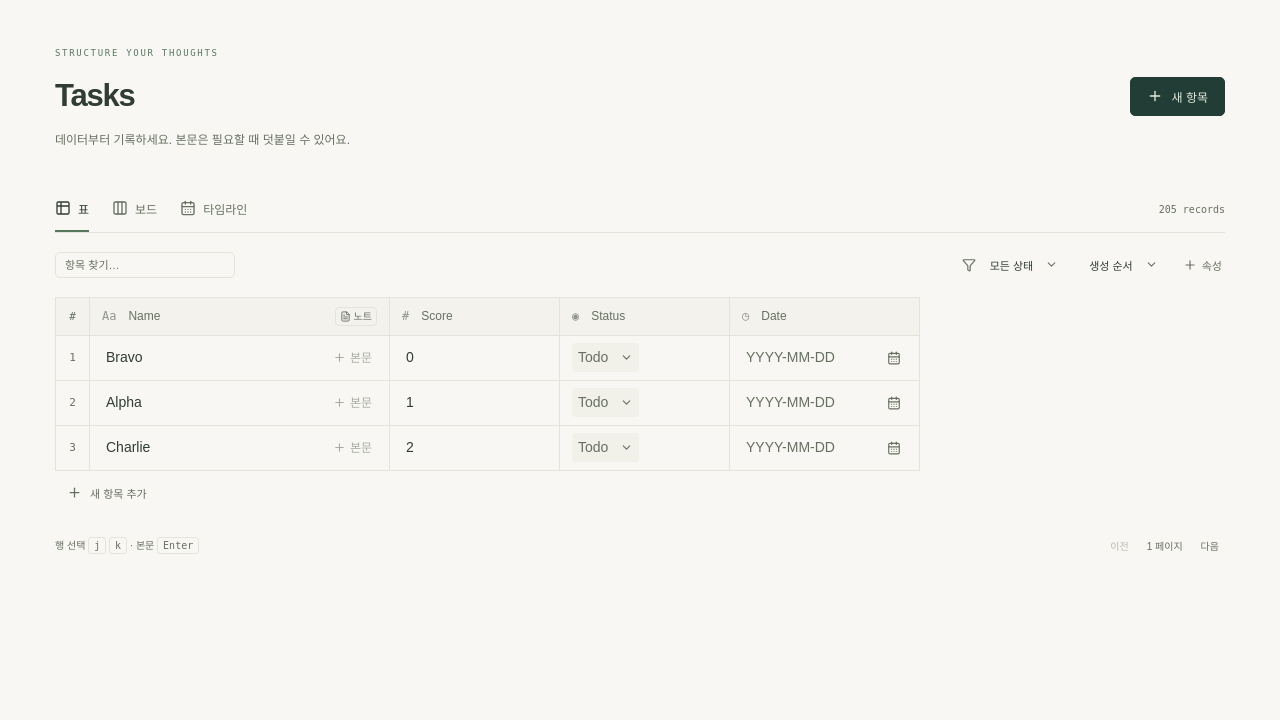
date cell Escape with IME signal {"isComposing":true} keeps the calendar and input focus
The width and height of the screenshot is (1280, 720).
Click the button named "Date Bravo 달력 열기": (894, 358) [880,344,907,371]
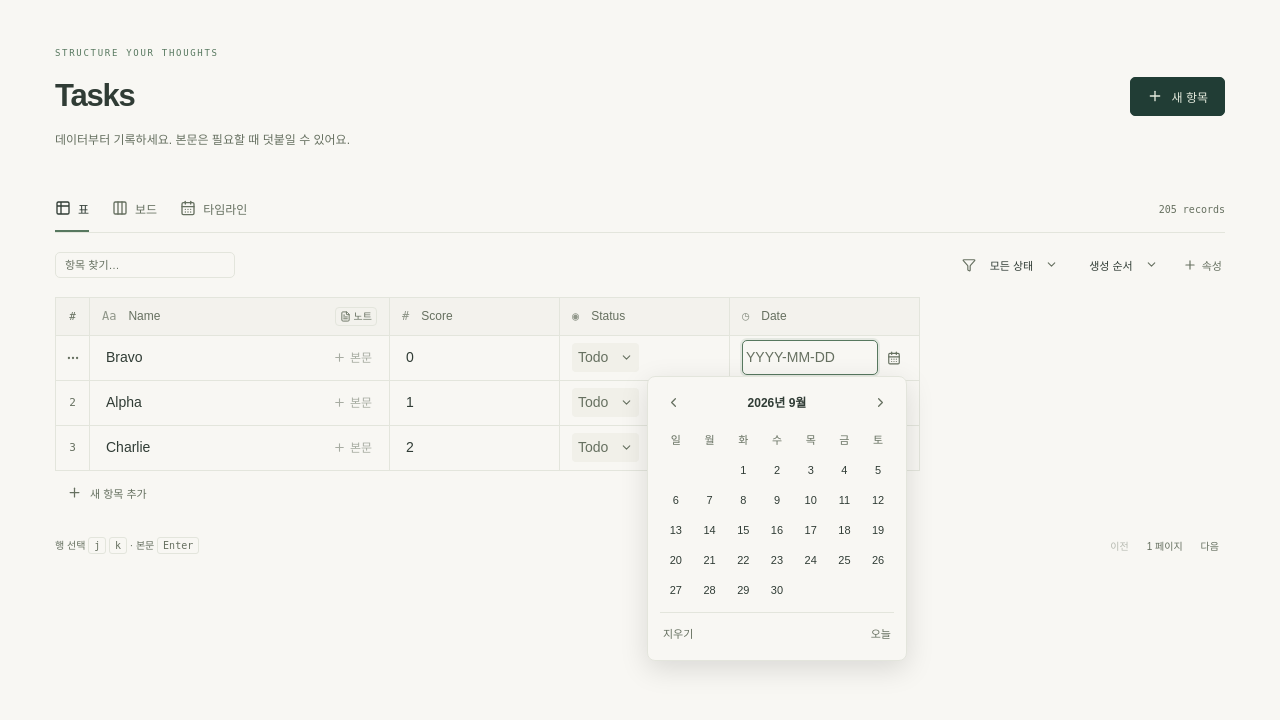
Press Escape in the field with placeholder "YYYY-MM-DD", box [742,340,878,375]
Now the element with class "date-calendar" is shown, box [647,376,907,661]
Press Escape in the field with placeholder "YYYY-MM-DD", box [742,340,878,375]
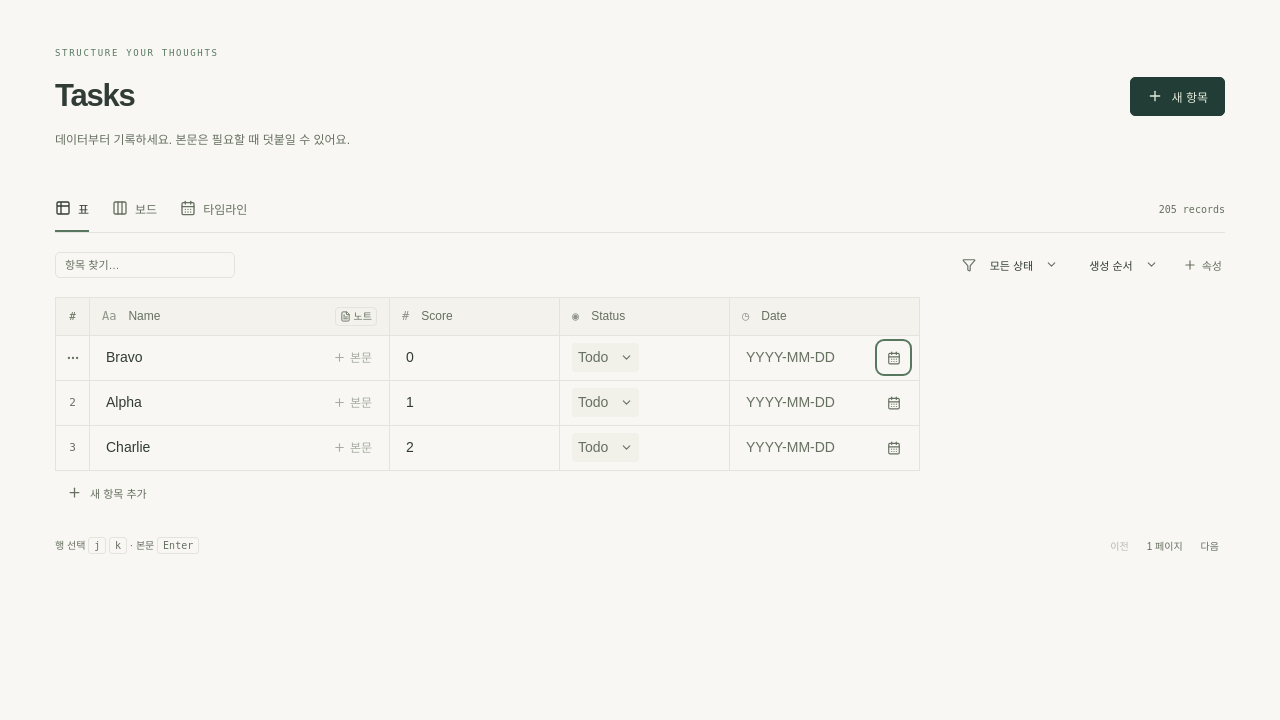
Now the element with class "date-calendar" is gone
